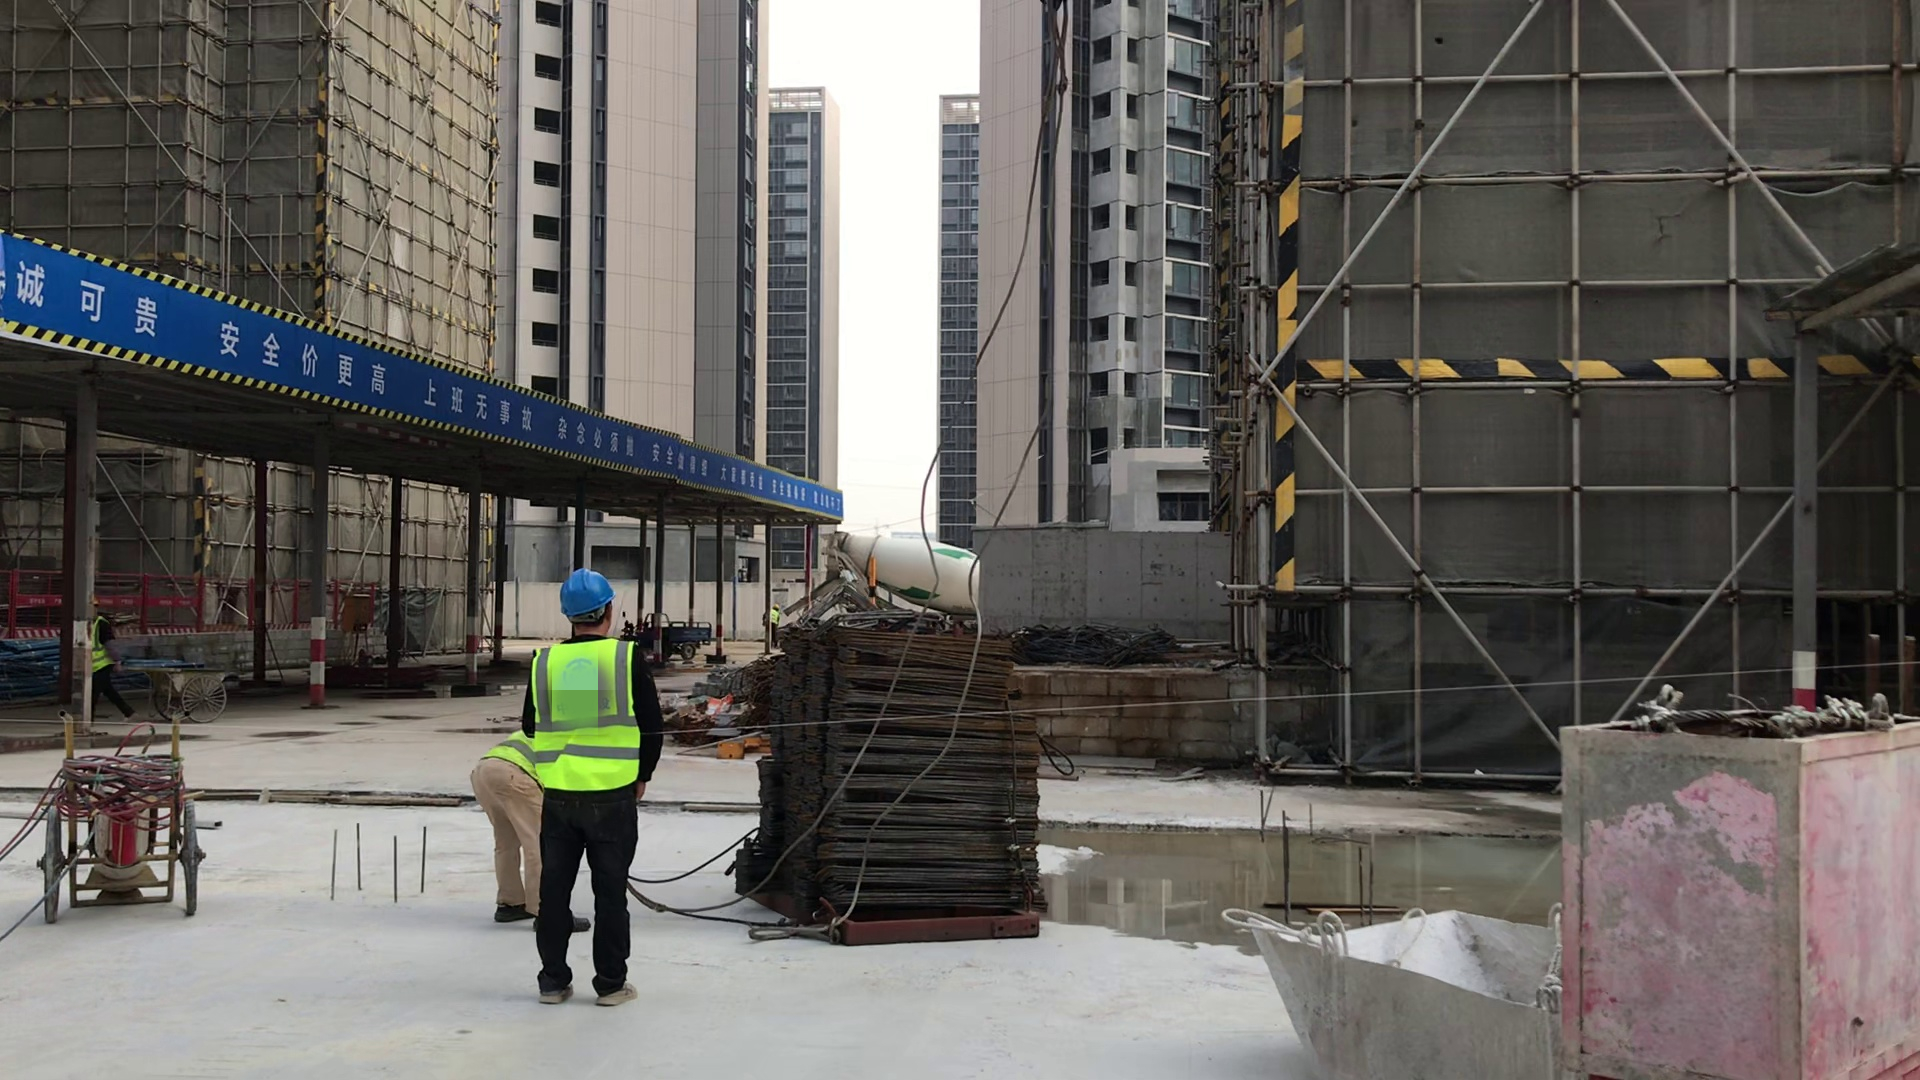ebox: (340, 590, 374, 629)
fence: (1, 573, 388, 637)
handcart: (114, 658, 234, 716)
helmet: (557, 568, 614, 615)
hopper: (1248, 891, 1578, 1080)
person: (529, 558, 672, 1016), (474, 719, 551, 926), (88, 592, 131, 719), (766, 598, 782, 650)
vest: (534, 643, 645, 793), (91, 613, 111, 670), (767, 606, 779, 623)
